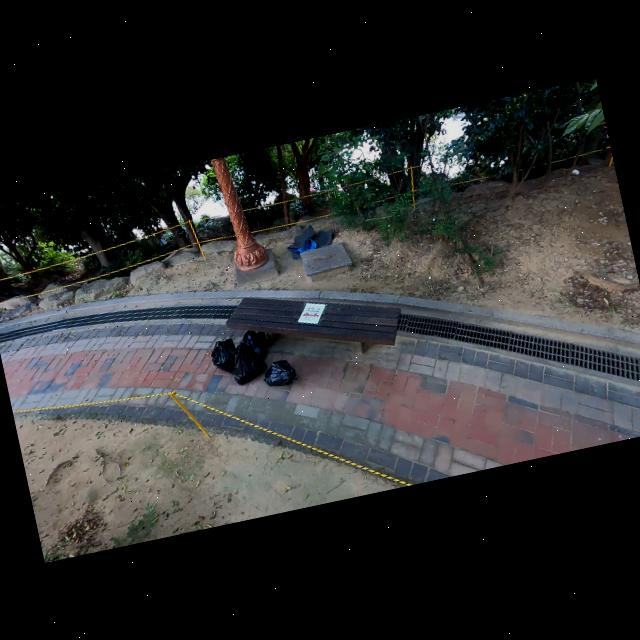trash: (226, 338, 268, 386), (204, 334, 243, 378), (233, 324, 274, 363), (260, 354, 302, 389)
